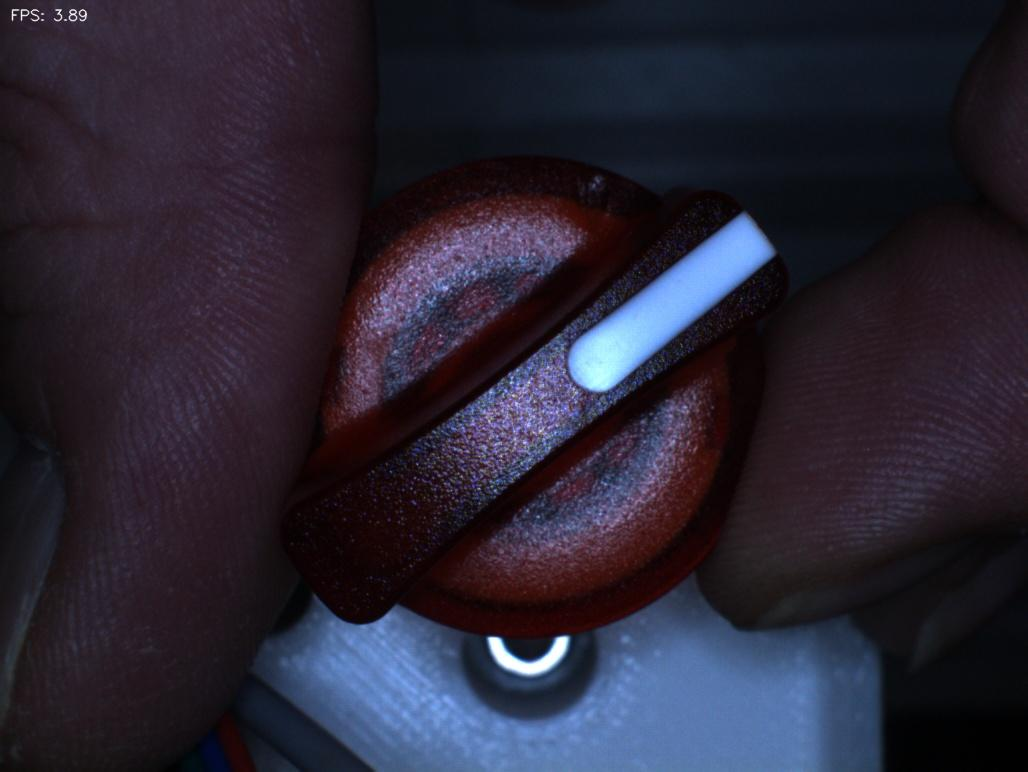Choc: (557, 141, 638, 217)
